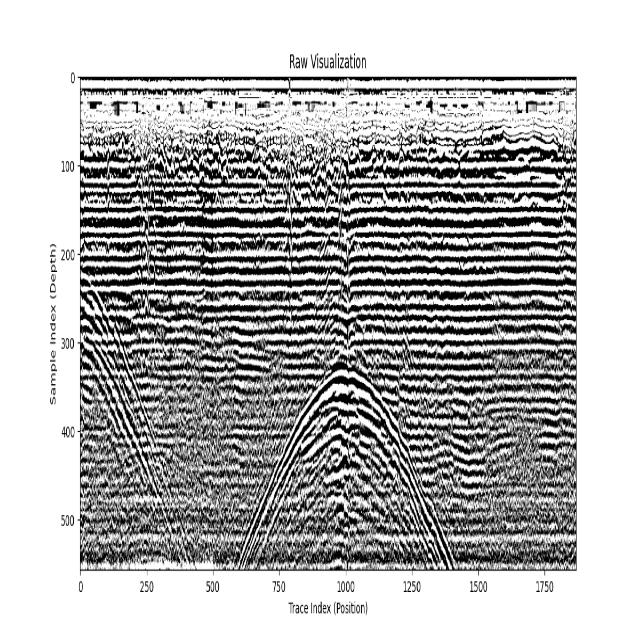anomaly: (217, 322, 461, 568), (83, 254, 204, 565)
